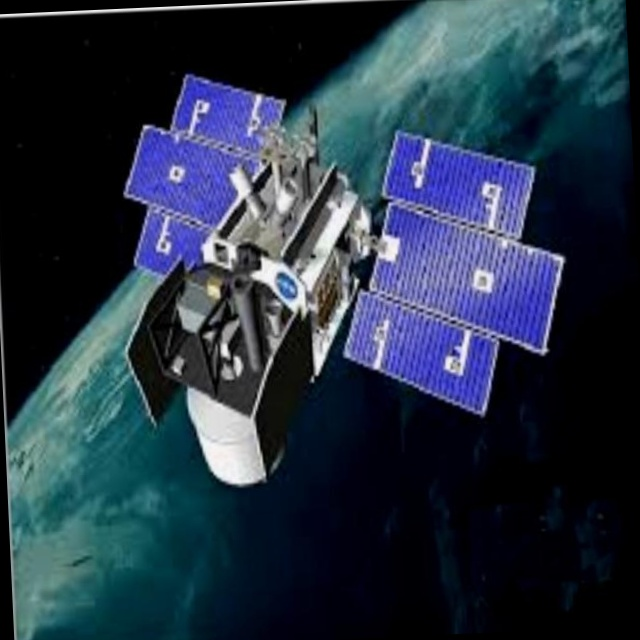satellite: (108, 40, 577, 521)
